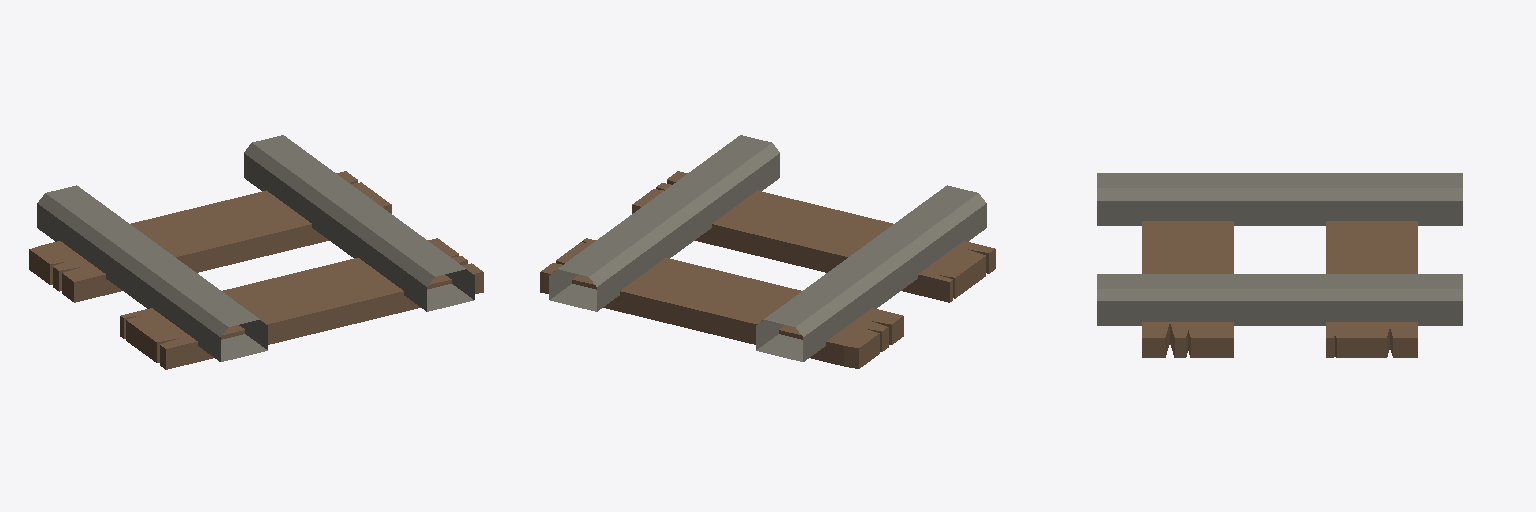
File: Cave_Prop_Railway_Straight_1.obj
3 views of the same model, side by side, from view 1: azimuth 30°, elevation 25°; view 2: azimuth 150°, elevation 25°; view 3: azimuth 270°, elevation 25° (orthographic).
Parts seen in each view (by area): view 1: object3, object2, object4, object1; view 2: object3, object2, object1, object4; view 3: object2, object3, object1, object4.
Part boxes in pixels (left/top/right/bottom): object3: left=244, top=135, right=474, bottom=311; object2: left=37, top=185, right=267, bottom=361; object4: left=120, top=238, right=483, bottom=369; object1: left=29, top=171, right=391, bottom=302; object3: left=549, top=135, right=779, bottom=311; object2: left=756, top=185, right=986, bottom=361; object1: left=540, top=238, right=903, bottom=368; object4: left=632, top=171, right=995, bottom=302; object2: left=1097, top=173, right=1462, bottom=225; object3: left=1097, top=274, right=1462, bottom=325; object1: left=1326, top=221, right=1417, bottom=357; object4: left=1142, top=221, right=1233, bottom=357.
Size of the model in its own units: 1 by 0.15 by 1.